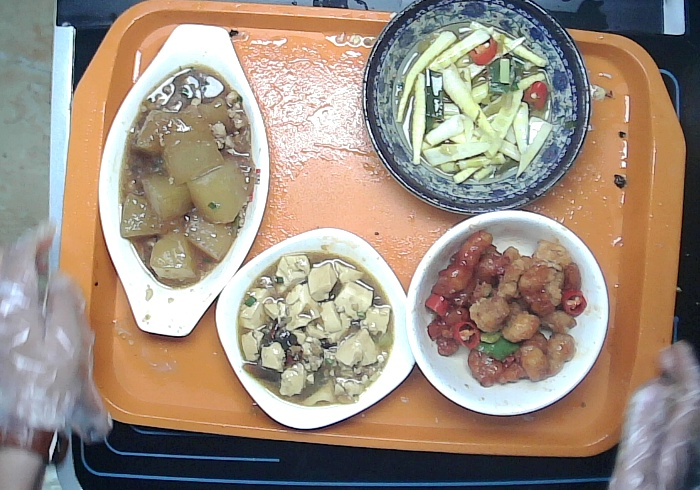ZNLD-Qing_Hua_Wan: (359, 1, 593, 218)
ZNLD-Si_Fang_Wan: (213, 226, 416, 431)
ZNLD-Tang_Wan: (403, 207, 611, 418)
ZNLD-Yu_Pan: (97, 21, 271, 339)
